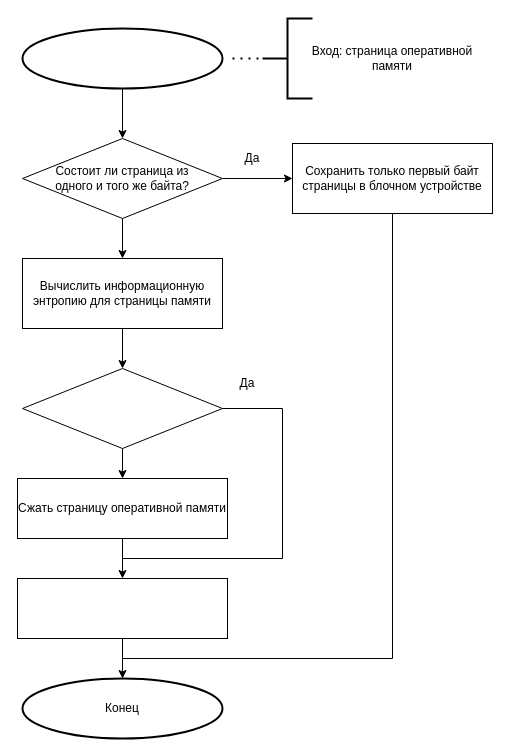
The diagram is 510 pixels wide and 756 high, and some of its shapes have lost their labels. The shapes that lost their labels are listed below. From the top down, each one's box as (x1, y1, x2, y2) in pixels, then its label:
(21, 27, 223, 89): Начало
(22, 368, 222, 448): Энтропия больше порогового значения?
(16, 578, 228, 638): Сохранить страницу оперативной памяти в блочном устройстве
